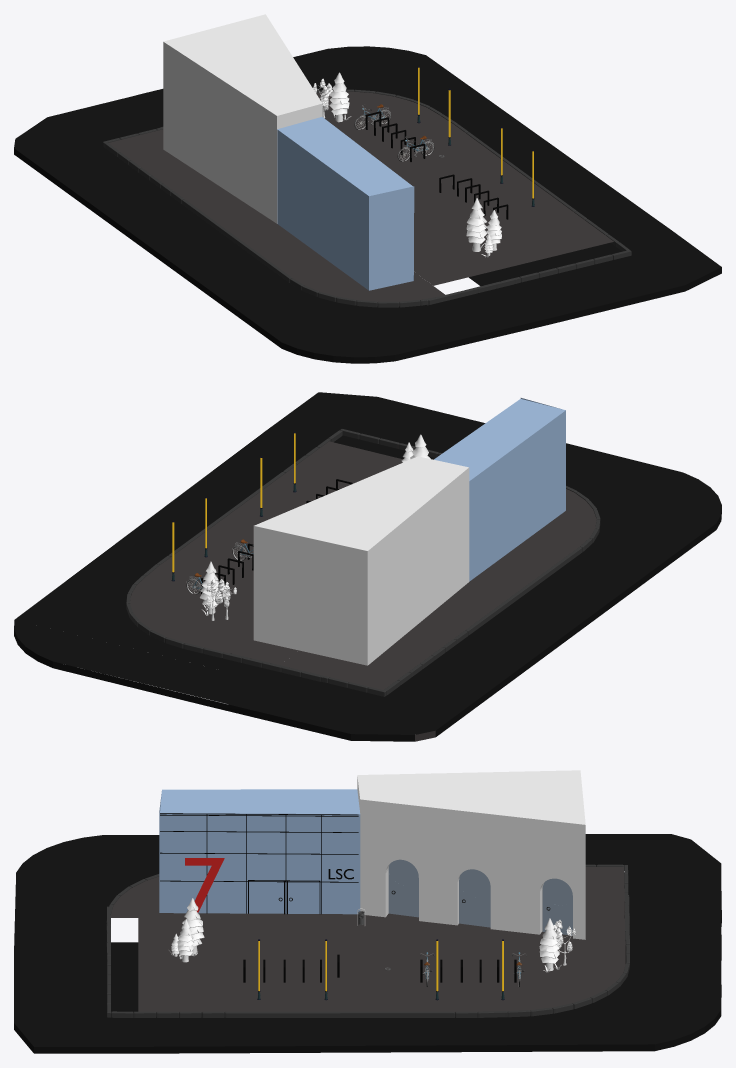
Rendered from Geb7-transformed.glb.
3 renders of one model, top to bottom at view 1: azimuth 30°, elevation 25°; view 2: azimuth 150°, elevation 25°; view 3: azimuth 270°, elevation 25°, orthographic. The views are drawn at different scales.
Visible parts, largest first — view 1: Street FLF.002, Cube, Plane.001, Plane.005, Tree.007, Tree.002; view 2: Street FLF.002, Cube, Plane.001; view 3: Street FLF.002, Cube, Plane.009, Plane.001, Cube.001, Cube.003, Cube.002, Text.001, Tree.002, Tree.007, Tree.009.
Part boxes in pixels (<box>): Street FLF.002: <box>14,46,721,363</box>; Cube: <box>163,14,322,223</box>; Plane.001: <box>277,117,414,290</box>; Plane.005: <box>279,132,414,286</box>; Tree.007: <box>466,198,487,251</box>; Tree.002: <box>329,72,349,122</box>; Street FLF.002: <box>14,392,721,741</box>; Cube: <box>253,456,469,665</box>; Plane.001: <box>434,398,565,581</box>; Street FLF.002: <box>14,834,721,1053</box>; Cube: <box>357,770,585,939</box>; Plane.009: <box>159,813,360,914</box>; Plane.001: <box>159,789,359,814</box>; Cube.001: <box>459,869,490,927</box>; Cube.003: <box>388,859,418,917</box>; Cube.002: <box>542,878,572,935</box>; Text.001: <box>185,858,224,912</box>; Tree.002: <box>539,918,559,971</box>; Tree.007: <box>182,898,204,955</box>; Tree.009: <box>177,919,193,962</box>.
Bounding box in the file's own units: 22.25 × 6.14 × 31.26.
20 materials, 7 textured.
